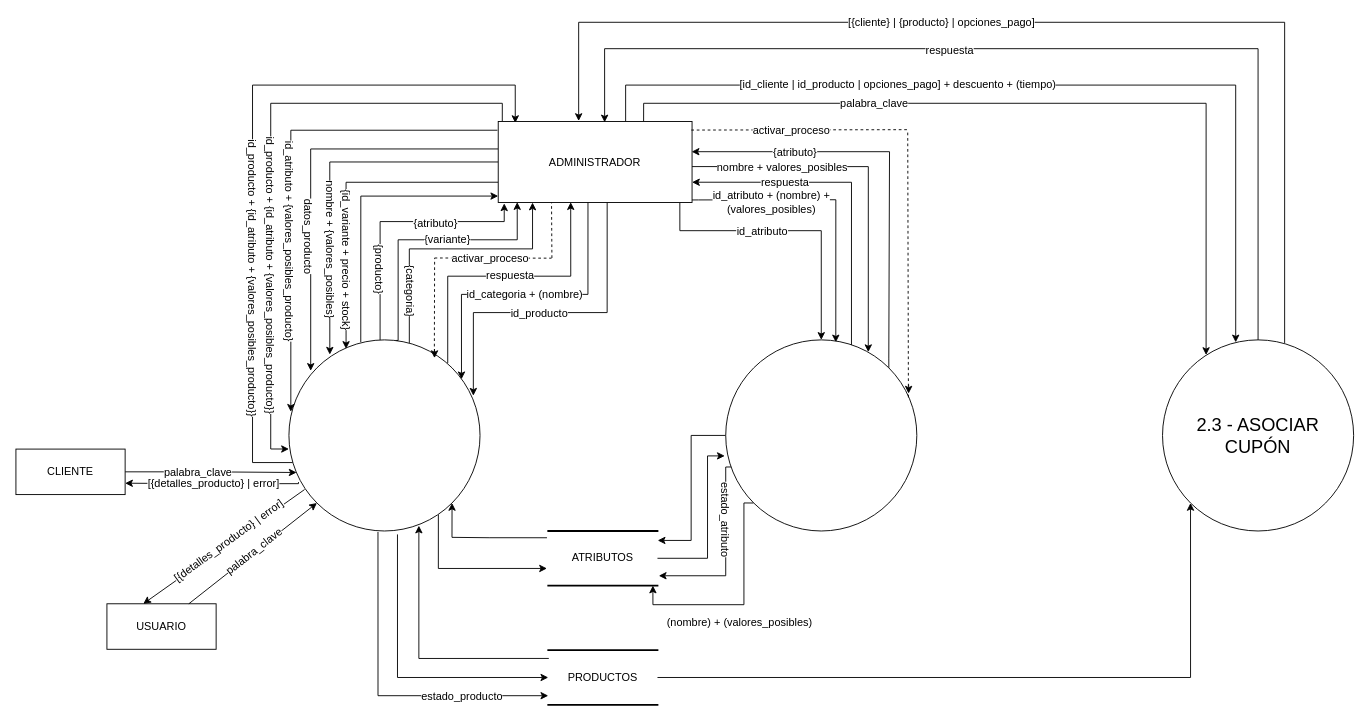
Image size: 1370x722. Some labels were removed from this diagram. Here are the shapes that lost their labels. From the top down, the centre of each, then its label:
At pixel 384 435: "2.1 - GESTIÓN DE PRODUCTOS".
At pixel 821 435: "2.2 - GESTIÓN DE ATRIBUTOS Y VARIANTES".
